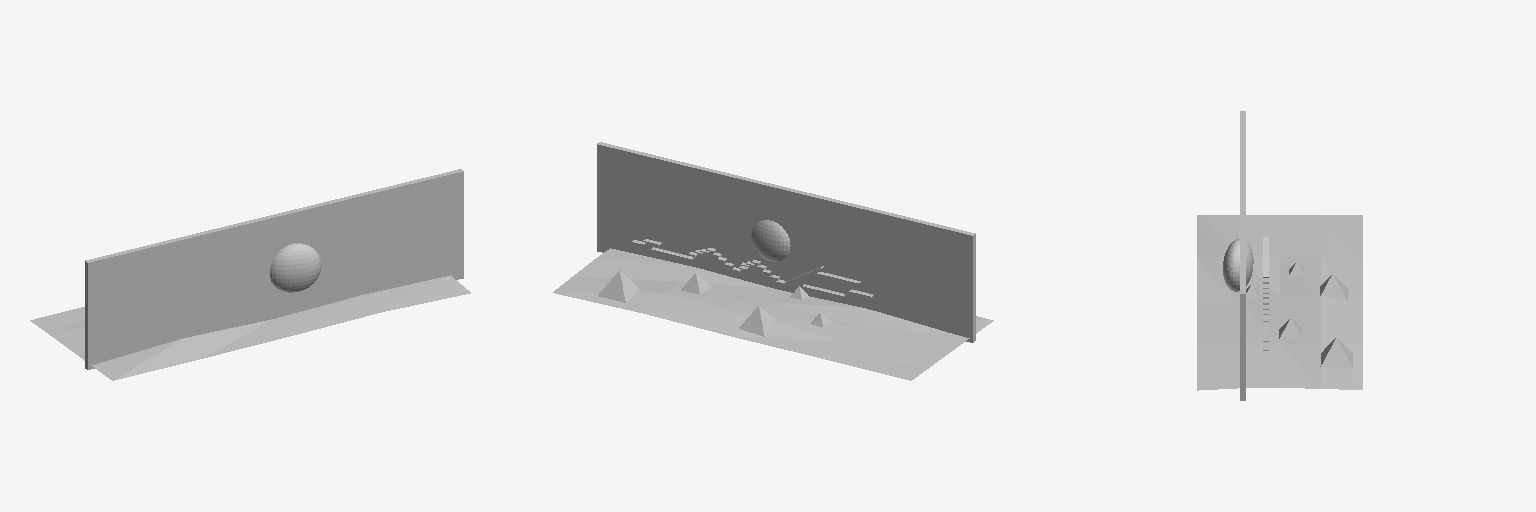
File: level 2.obj
The picture shows the model from 3 angles: view 1: azimuth 30°, elevation 25°; view 2: azimuth 150°, elevation 25°; view 3: azimuth 270°, elevation 25°; orthographic projection.
Visible parts, largest first — view 1: background, bottom, moon; view 2: background, bottom, moon, Level, Pyramid003, Pyramid001; view 3: bottom, background, moon, Pyramid003, Level.
Boxes of the visible parts, x1=… form: background: x1=85, y1=169, x2=463, y2=369; bottom: x1=30, y1=275, x2=470, y2=380; moon: x1=270, y1=243, x2=321, y2=292; background: x1=597, y1=142, x2=975, y2=342; bottom: x1=553, y1=248, x2=993, y2=380; moon: x1=751, y1=220, x2=790, y2=261; Level: x1=631, y1=239, x2=873, y2=297; Pyramid003: x1=598, y1=270, x2=639, y2=302; Pyramid001: x1=739, y1=305, x2=775, y2=336; bottom: x1=1197, y1=215, x2=1362, y2=390; background: x1=1240, y1=111, x2=1245, y2=400; moon: x1=1223, y1=239, x2=1253, y2=291; Pyramid003: x1=1320, y1=337, x2=1352, y2=367; Level: x1=1263, y1=226, x2=1268, y2=350.
Bounding box in the file's own units: 34958 × 9507 × 13327.